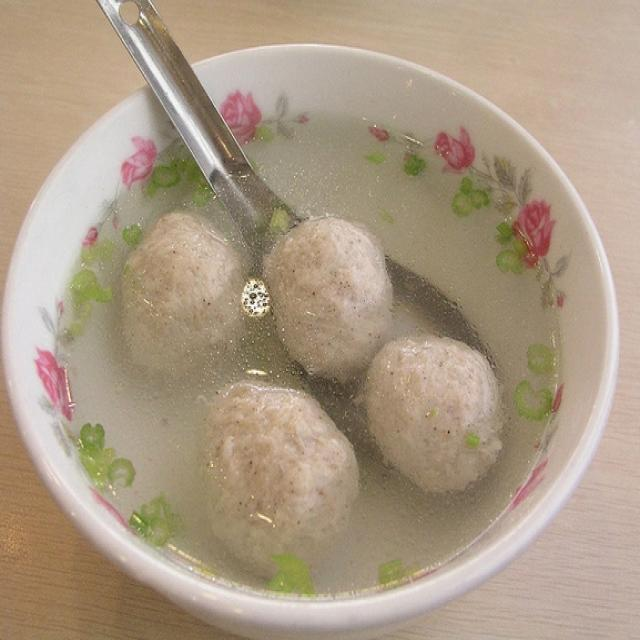熟制海鲜: (20, 44, 618, 618)
